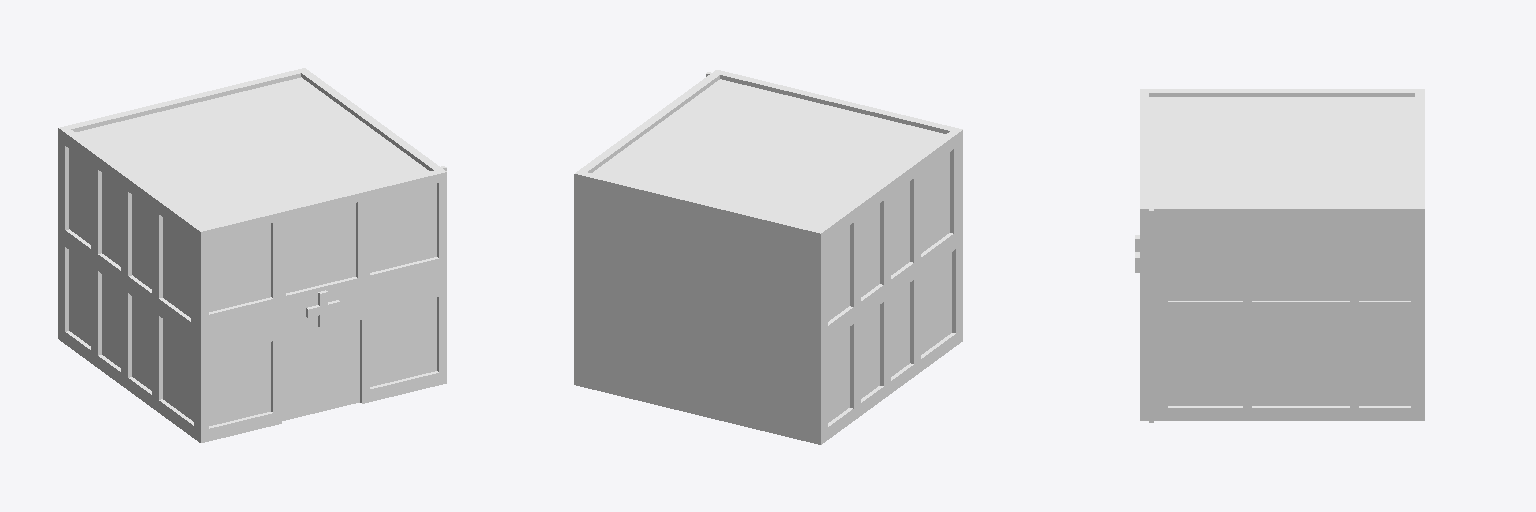
File: budynek.obj
3 renders of one model, left to right at view 1: azimuth 30°, elevation 25°; view 2: azimuth 150°, elevation 25°; view 3: azimuth 270°, elevation 25°, orthographic.
Visible parts, largest first — view 1: object 1; view 2: object 1; view 3: object 1.
Part boxes in pixels (bbox=[...]): object 1: bbox=[58, 68, 446, 442]; object 1: bbox=[574, 70, 962, 444]; object 1: bbox=[1135, 89, 1424, 422].
Size of the model in its own units: 6.2 by 5 by 6.2.